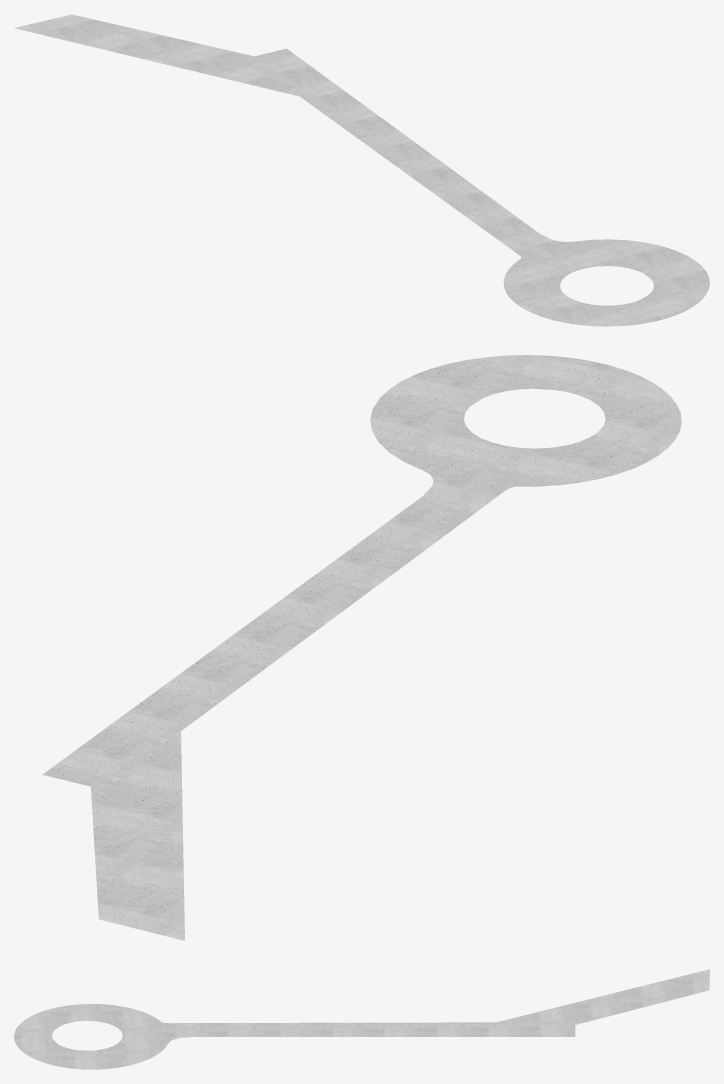
Rendered from PathSmallSurface.fbx.
3 views of the same model, one above another, from view 1: azimuth 30°, elevation 25°; view 2: azimuth 150°, elevation 25°; view 3: azimuth 270°, elevation 25° (orthographic). The views are drawn at different scales.
Visible parts, largest first — view 1: 物件_1; view 2: 物件_1; view 3: 物件_1.
Part boxes in pixels (left/top/right/bottom): 物件_1: left=14, top=14, right=709, bottom=326; 物件_1: left=42, top=355, right=681, bottom=940; 物件_1: left=14, top=969, right=709, bottom=1069.
Size of the model in its own units: 45.72 by 0 by 134.
1 material, 1 textured.
